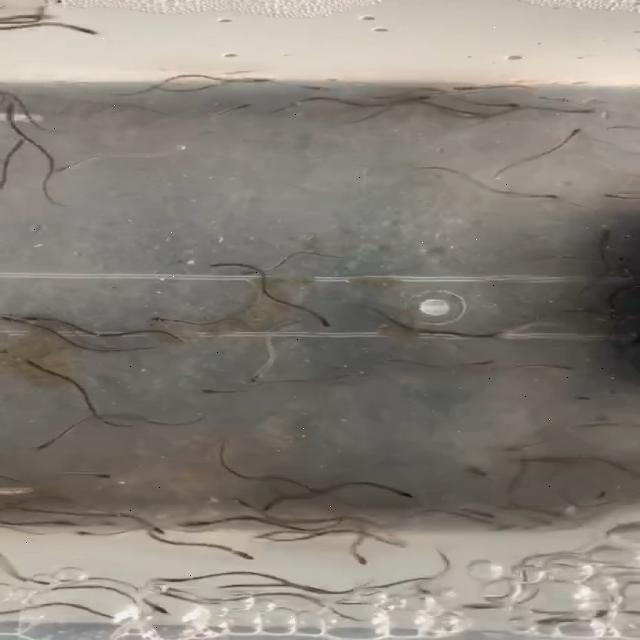active_glass_eel: (191, 384, 237, 400), (52, 20, 104, 34), (176, 518, 220, 534), (537, 612, 580, 628), (344, 544, 374, 566), (217, 544, 253, 562), (140, 580, 186, 594), (462, 459, 494, 479), (462, 598, 507, 612), (592, 220, 620, 242), (145, 596, 173, 618), (460, 356, 498, 372), (154, 570, 192, 586), (0, 315, 37, 331), (237, 368, 269, 386), (0, 95, 22, 121), (77, 468, 117, 482), (288, 81, 338, 92), (136, 518, 166, 536), (305, 312, 337, 328), (237, 72, 279, 84), (34, 436, 59, 456), (398, 95, 443, 106), (454, 80, 494, 92), (486, 98, 526, 110), (224, 498, 256, 512), (56, 157, 82, 174), (501, 441, 536, 453), (530, 94, 572, 104), (562, 125, 586, 142), (560, 105, 597, 116), (12, 10, 52, 20), (538, 188, 566, 202), (566, 390, 594, 404), (393, 488, 421, 502), (67, 529, 99, 541), (84, 518, 122, 528), (146, 312, 176, 324), (464, 513, 494, 525), (606, 190, 640, 200), (548, 363, 582, 373), (18, 316, 58, 324), (232, 102, 256, 115), (12, 136, 30, 152), (240, 268, 264, 280)
